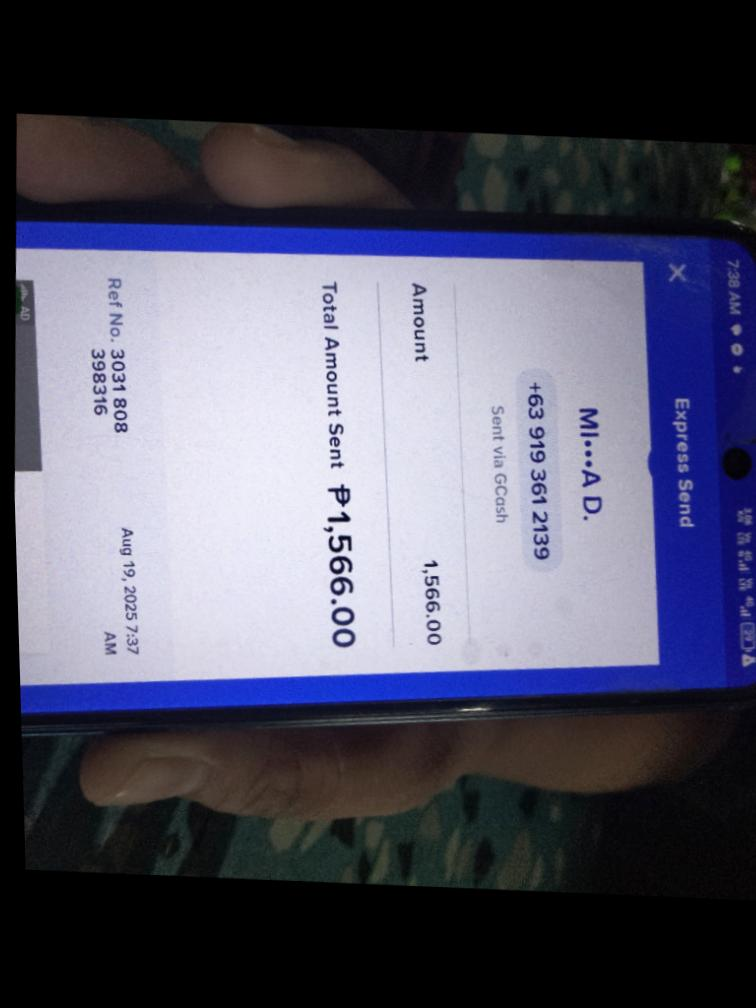Receipt: (15, 225, 729, 710)
